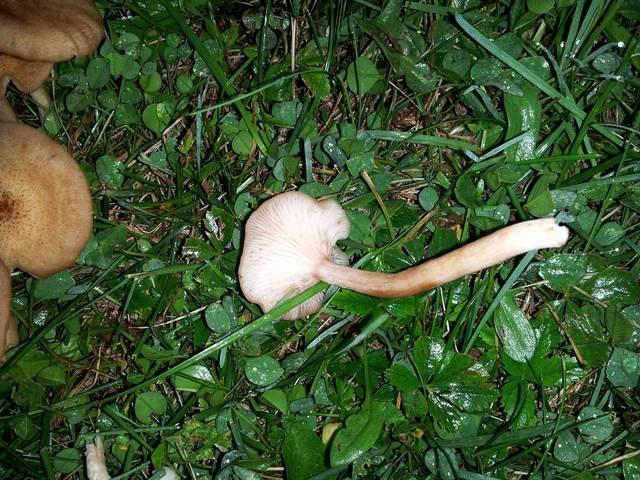edible_mushroom: (236, 189, 569, 321), (0, 120, 93, 364), (1, 0, 99, 112)
